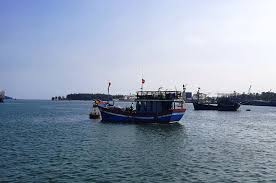tau_dansu: (98, 85, 183, 124), (186, 91, 243, 113)
